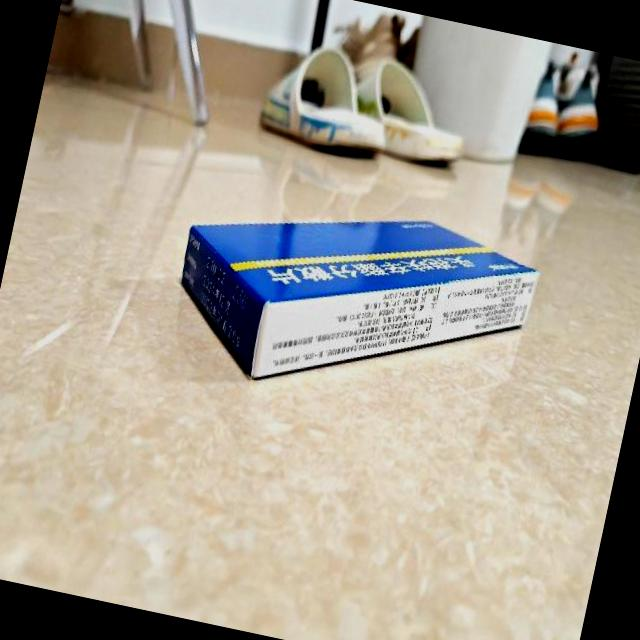box: (160, 168, 546, 434)
